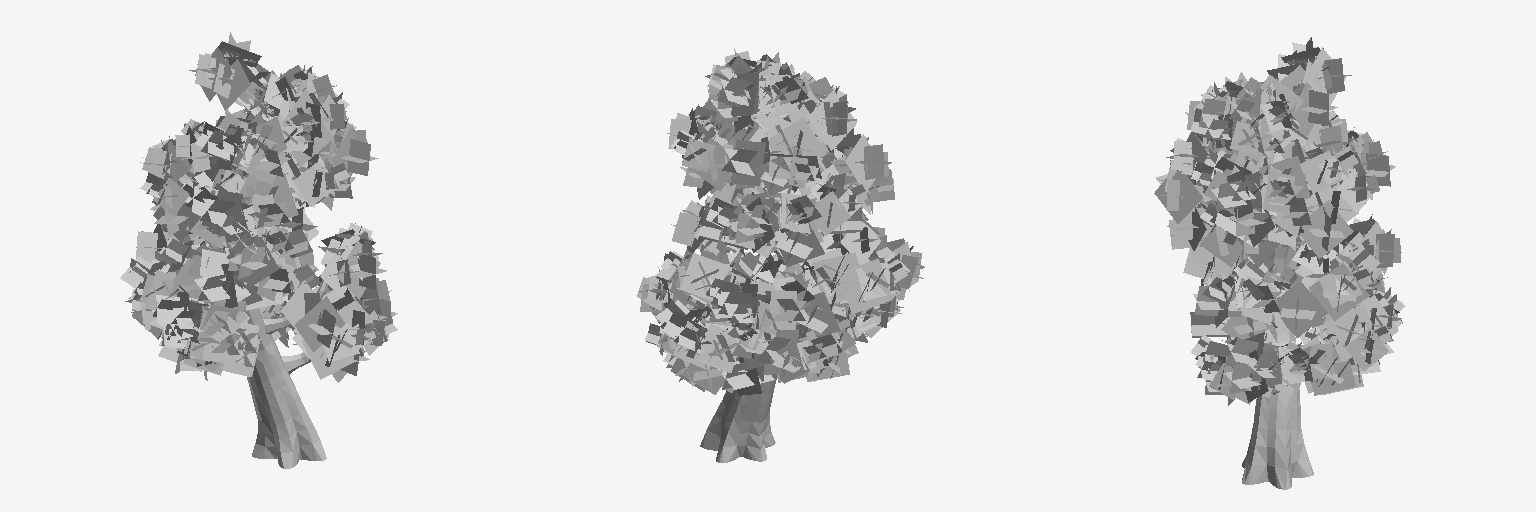
Rendered from TallThick_4.obj.
3 views of the same model, side by side, from view 1: azimuth 30°, elevation 25°; view 2: azimuth 150°, elevation 25°; view 3: azimuth 270°, elevation 25° (orthographic).
Visible parts, largest first — view 1: TallThick_4; view 2: TallThick_4; view 3: TallThick_4.
Boxes of the visible parts, <box> form: TallThick_4: <box>120,32,397,468</box>; TallThick_4: <box>637,49,924,462</box>; TallThick_4: <box>1154,37,1404,489</box>.
Bounding box in the file's own units: 10.12 × 15.27 × 8.65.